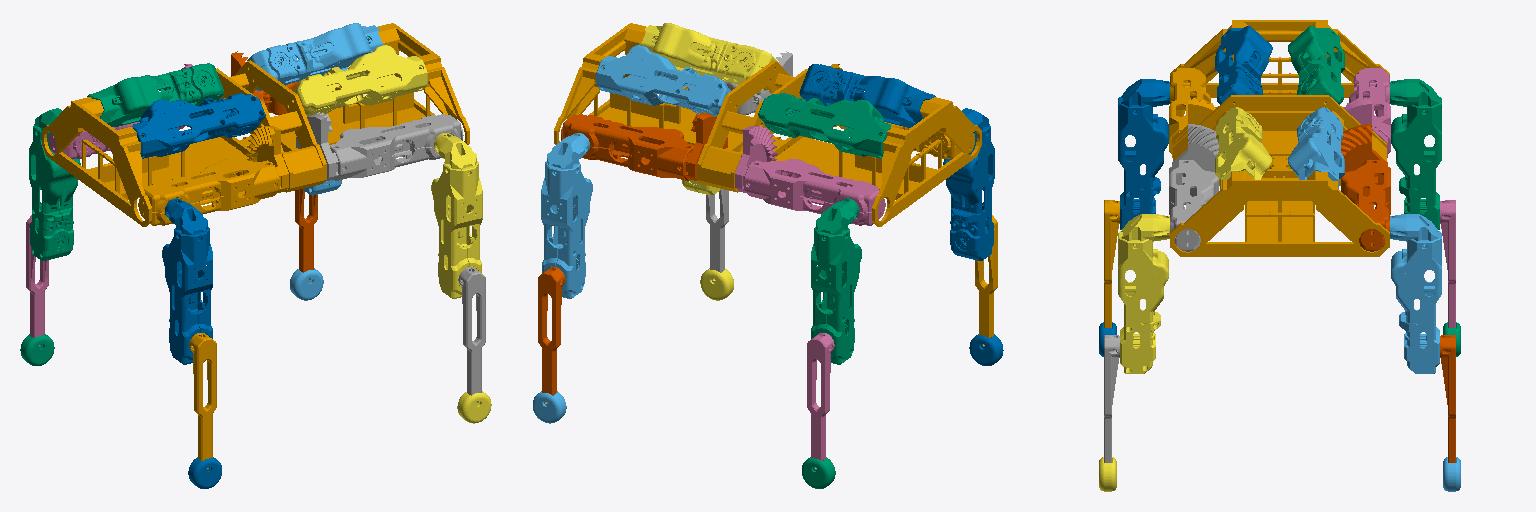
--- Facts derived from the render (not from the file) ---
3 views of the same robot in one strip: view 1: azimuth 30°, elevation 25°; view 2: azimuth 150°, elevation 25°; view 3: azimuth 270°, elevation 25° (orthographic).
Model Vierbot with 21 links and 20 joints (12 revolute, 8 fixed), rooted at base_link, posed all joints at 0.
Links seen in each view (by area): view 1: base_link, thigh_RR_111, shank_FR_91, shank_RR_121, thigh_FR_81, hip_FR_71, hip_RR_101, shank_RL_61, hip_RL_41, hip_FL_11, calf_RR_01, calf_FR_01 (+8 smaller); view 2: base_link, thigh_RL_51, shank_FL_31, shank_RL_61, thigh_FL_21, hip_FL_11, hip_RL_41, shank_RR_121, hip_FR_71, hip_RR_101, calf_RL_01, calf_FL_01 (+8 smaller); view 3: base_link, shank_FR_91, shank_FL_31, shank_RL_61, shank_RR_121, thigh_FL_21, thigh_FR_81, hip_RL_41, hip_RR_101, hip_FR_71, hip_FL_11, thigh_RL_51 (+7 smaller).
Boxes of the visible links, <box> form: base_link: <box>42,23,469,226</box>; thigh_RR_111: <box>138,126,288,225</box>; shank_FR_91: <box>431,133,482,298</box>; shank_RR_121: <box>162,198,212,364</box>; thigh_FR_81: <box>296,112,463,181</box>; hip_FR_71: <box>293,45,427,116</box>; hip_RR_101: <box>132,93,265,158</box>; shank_RL_61: <box>29,108,80,260</box>; hip_RL_41: <box>87,63,223,126</box>; hip_FL_11: <box>247,23,384,90</box>; calf_RR_01: <box>189,333,216,468</box>; calf_FR_01: <box>458,267,485,403</box>; base_link: <box>554,23,981,226</box>; thigh_RL_51: <box>735,126,885,225</box>; shank_FL_31: <box>541,133,592,298</box>; shank_RL_61: <box>811,198,861,364</box>; thigh_FL_21: <box>561,112,727,181</box>; hip_FL_11: <box>596,45,730,116</box>; hip_RL_41: <box>758,93,890,158</box>; shank_RR_121: <box>943,108,994,260</box>; hip_FR_71: <box>639,23,777,90</box>; hip_RR_101: <box>799,64,935,127</box>; calf_RL_01: <box>807,333,834,468</box>; calf_FL_01: <box>538,267,565,403</box>; base_link: <box>1170,20,1389,256</box>; shank_FR_91: <box>1118,214,1169,373</box>; shank_FL_31: <box>1390,214,1441,373</box>; shank_RL_61: <box>1390,79,1441,229</box>; shank_RR_121: <box>1118,79,1169,229</box>; thigh_FL_21: <box>1341,124,1390,251</box>; thigh_FR_81: <box>1169,124,1218,251</box>; hip_RL_41: <box>1288,26,1344,104</box>; hip_RR_101: <box>1215,26,1272,104</box>; hip_FR_71: <box>1215,107,1271,189</box>; hip_FL_11: <box>1288,107,1344,188</box>; thigh_RL_51: <box>1343,68,1390,157</box>.
Bounding box of the posed robot: 0.434 × 0.4121 × 0.4264 m (x, y, z).
Meshes: 21 distinct files referenced, 21 mesh visuals loaded (21 binary STL).

URDF robot description (Vierbot):
<?xml version="1.0" ?>
<robot name="Vierbot">

<material name="black">
        <color rgba="0.05 0.05 0.05 1.0"/>
</material>

<material name="silver">
  <color rgba="0.700 0.700 0.700 1.0"/>
</material>

<material name="col1">
        <color rgba="0.0 0.2 0.8 1.0"/>
</material>

<material name="col2">
        <color rgba="0.0 0.5 0.0 1.0"/>
</material>

<material name="col3">
        <color rgba="0.8 0.2 0.0 1.0"/>
</material>

<material name="col4">
        <color rgba="1.0 1.0 0.0 1.0"/>
</material>

<sensor name="my_camera_sensor" update_rate="20">
<parent link="optical_frame_link_name"/>
<origin xyz="0 0 0" rpy="0 0 0"/>
<camera>
<image width="640" height="480" hfov="1.5708" format="RGB8" near="0.01" far="50.0"/>
</camera>
</sensor>

<link name="base_link">
  <inertial>
    <origin xyz="-1.1622381977455148e-13 6.060780228924139e-14 0.03150477604264907" rpy="0 0 0"/>
    <mass value="1.5"/>
    <inertia ixx="0.003225346077416837" iyy="0.018385606218641354" izz="0.019912259165626372" ixy="8.540431736036536e-14" iyz="1.1403721671223423e-15" ixz="-2.1927250054644424e-15"/>
  </inertial>
  <visual>
    <origin xyz="0 0 0" rpy="0 0 0"/>
    <geometry>
      <mesh filename="meshes/base_link.stl" scale="0.001 0.001 0.001"/>
    </geometry>
    <material name="black"/>
    <material/>
  </visual>
  <collision>
    <origin xyz="0 0 0" rpy="0 0 0"/>
    <geometry>
      <mesh filename="meshes/base_link.stl" scale="0.001 0.001 0.001"/>
    </geometry>
  </collision>
</link>

<link name="hip_FL_11">
  <inertial>
    <origin xyz="-0.09440772079482261 -0.01226946793154024 0.012008984684742721" rpy="0 0 0"/>
    <mass value="0.09229327790970179"/>
    <inertia ixx="3.5536504792693614e-05" iyy="0.00024043995134874767" izz="0.00024034643419844023" ixy="5.166030567867598e-06" iyz="2.7372382227307105e-06" ixz="-6.1753181989822195e-06"/>
  </inertial>
  <visual>
    <origin xyz="-0.1874 -0.057622 -0.067378" rpy="0 0 0"/>
    <geometry>
      <mesh filename="meshes/hip_FL_11.stl" scale="0.001 0.001 0.001"/>
    </geometry>
    <material name="col1"/>
    <material/>
  </visual>
  <collision>
    <origin xyz="-0.1874 -0.057622 -0.067378" rpy="0 0 0"/>
    <geometry>
      <mesh filename="meshes/hip_FL_11.stl" scale="0.001 0.001 0.001"/>
    </geometry>
  </collision>
</link>

<link name="hip_RL_41">
  <inertial>
    <origin xyz="0.09440772079482249 -0.012008984684745504 0.0122694679315377" rpy="0 0 0"/>
    <mass value="0.09229327790970179"/>
    <inertia ixx="3.553650479269383e-05" iyy="0.00024034643419844" izz="0.00024043995134874745" ixy="-6.175318198982057e-06" iyz="2.737238222730602e-06" ixz="5.166030567867598e-06"/>
  </inertial>
  <visual>
    <origin xyz="0.1874 0.067622 -0.057378" rpy="1.57 0 0"/>
    <geometry>
      <mesh filename="meshes/hip_RL_41.stl" scale="0.001 0.001 0.001"/>
    </geometry>
    <material name="col1"/>
    <material/>
  </visual>
  <collision>
    <origin xyz="0.1874 0.067622 -0.057378" rpy="1.57 0 0"/>
    <geometry>
      <mesh filename="meshes/hip_RL_41.stl" scale="0.001 0.001 0.001"/>
    </geometry>
  </collision>
</link>

<link name="hip_FR_71">
  <inertial>
    <origin xyz="-0.09440772079482262 0.012008984684745122 0.012269467931537603" rpy="0 0 0"/>
    <mass value="0.09229327790970179"/>
    <inertia ixx="3.5536504792693614e-05" iyy="0.00024034643419844066" izz="0.00024043995134874745" ixy="-6.175318198982003e-06" iyz="-2.7372382227307647e-06" ixz="-5.166030567867381e-06"/>
  </inertial>
  <visual>
    <origin xyz="-0.1874 -0.067622 -0.057378" rpy="-1.57 0 0"/>
    <geometry>
      <mesh filename="meshes/hip_FR_71.stl" scale="0.001 0.001 0.001"/>
    </geometry>
    <material name="col1"/>
    <material/>
  </visual>
  <collision>
    <origin xyz="-0.1874 -0.067622 -0.057378" rpy="-1.57 0 0"/>
    <geometry>
      <mesh filename="meshes/hip_FR_71.stl" scale="0.001 0.001 0.001"/>
    </geometry>
  </collision>
</link>

<link name="hip_RR_101">
  <inertial>
    <origin xyz="0.09440772079482257 0.012269467931539865 0.012008984684742874" rpy="0 0 0"/>
    <mass value="0.09229327790970179"/>
    <inertia ixx="3.55365047926934e-05" iyy="0.00024043995134874724" izz="0.0002403464341984398" ixy="5.166030567867652e-06" iyz="-2.737238222730819e-06" ixz="6.1753181989822195e-06"/>
  </inertial>
  <visual>
    <origin xyz="0.1874 0.067622 0.057378" rpy="1.57 0 0"/>
    <geometry>
      <mesh filename="meshes/hip_RR_101.stl" scale="0.001 0.001 0.001"/>
    </geometry>
    <material name="col1"/>
    <material/>
  </visual>
  <collision>
    <origin xyz="0.1874 0.067622 0.057378" rpy="1.57 0 0"/>
    <geometry>
      <mesh filename="meshes/hip_RR_101.stl" scale="0.001 0.001 0.001"/>
    </geometry>
  </collision>
</link>

<link name="thigh_FL_21">
  <inertial>
    <origin xyz="-0.11134867223809858 -0.006622812232587191 0.005787907893035502" rpy="0 0 0"/>
    <mass value="0.15164823324289775"/>
    <inertia ixx="8.976676884853802e-05" iyy="0.0006609373724777076" izz="0.0006647347263703898" ixy="-6.137242536875223e-05" iyz="1.3420564825027722e-05" ixz="5.718577466675838e-05"/>
  </inertial>
  <visual>
    <origin xyz="-0.212 -0.105 -0.02" rpy="0 0 0"/>
    <geometry>
      <mesh filename="meshes/thigh_FL_21.stl" scale="0.001 0.001 0.001"/>
    </geometry>
    <material name="col2"/>
    <material/>
  </visual>
  <collision>
    <origin xyz="-0.212 -0.105 -0.02" rpy="0 0 0"/>
    <geometry>
      <mesh filename="meshes/thigh_FL_21.stl" scale="0.001 0.001 0.001"/>
    </geometry>
  </collision>
</link>

<link name="thigh_RL_51">
  <inertial>
    <origin xyz="0.11134871719665655 -0.006622833039364548 0.00578791297031736" rpy="0 0 0"/>
    <mass value="0.15164842396810566"/>
    <inertia ixx="8.976683878910699e-05" iyy="0.000660937631680238" izz="0.0006647350357718157" ixy="6.137253858525525e-05" iyz="1.3420578046066515e-05" ixz="-5.718580198711454e-05"/>
  </inertial>
  <visual>
    <origin xyz="0.212 -0.105 -0.02" rpy="0 0 0"/>
    <geometry>
      <mesh filename="meshes/thigh_RL_51.stl" scale="0.001 0.001 0.001"/>
    </geometry>
    <material name="col2"/>
    <material/>
  </visual>
  <collision>
    <origin xyz="0.212 -0.105 -0.02" rpy="0 0 0"/>
    <geometry>
      <mesh filename="meshes/thigh_RL_51.stl" scale="0.001 0.001 0.001"/>
    </geometry>
  </collision>
</link>

<link name="thigh_FR_81">
  <inertial>
    <origin xyz="-0.11134871719665673 0.006622833039364159 0.0057879129703172424" rpy="0 0 0"/>
    <mass value="0.15164842396810566"/>
    <inertia ixx="8.976683878910677e-05" iyy="0.0006609376316802384" izz="0.0006647350357718166" ixy="6.137253858525546e-05" iyz="-1.342057804606646e-05" ixz="5.718580198711454e-05"/>
  </inertial>
  <visual>
    <origin xyz="-0.212 0.105 -0.02" rpy="0 0 0"/>
    <geometry>
      <mesh filename="meshes/thigh_FR_81.stl" scale="0.001 0.001 0.001"/>
    </geometry>
    <material name="col2"/>
    <material/>
  </visual>
  <collision>
    <origin xyz="-0.212 0.105 -0.02" rpy="0 0 0"/>
    <geometry>
      <mesh filename="meshes/thigh_FR_81.stl" scale="0.001 0.001 0.001"/>
    </geometry>
  </collision>
</link>

<link name="thigh_RR_111">
  <inertial>
    <origin xyz="0.11134867223809854 0.006622812232586803 0.005787907893035661" rpy="0 0 0"/>
    <mass value="0.15164823324289775"/>
    <inertia ixx="8.976676884853802e-05" iyy="0.0006609373724777081" izz="0.0006647347263703898" ixy="-6.137242536875223e-05" iyz="-1.3420564825027776e-05" ixz="-5.718577466675833e-05"/>
  </inertial>
  <visual>
    <origin xyz="0.212 0.105 -0.02" rpy="0 0 0"/>
    <geometry>
      <mesh filename="meshes/thigh_RR_111.stl" scale="0.001 0.001 0.001"/>
    </geometry>
    <material name="col2"/>
    <material/>
  </visual>
  <collision>
    <origin xyz="0.212 0.105 -0.02" rpy="0 0 0"/>
    <geometry>
      <mesh filename="meshes/thigh_RR_111.stl" scale="0.001 0.001 0.001"/>
    </geometry>
  </collision>
</link>

<link name="shank_FL_31">
  <inertial>
    <origin xyz="0.00012338927615068718 0.03435448337164208 -0.07427332259918416" rpy="0 0 0"/>
    <mass value="0.1375345537707605"/>
    <inertia ixx="0.0005796742922113672" iyy="0.0005665159913046964" izz="4.9598761995544444e-05" ixy="-1.044592789923443e-07" iyz="3.927975454467254e-05" ixz="1.306607903904045e-06"/>
  </inertial>
  <visual>
    <origin xyz="-0.1815 -0.1236 -0.02" rpy="0 0 0"/>
    <geometry>
      <mesh filename="meshes/shank_FL_31.stl" scale="0.001 0.001 0.001"/>
    </geometry>
    <material name="col3"/>
    <material/>
  </visual>
  <collision>
    <origin xyz="-0.1815 -0.1236 -0.02" rpy="0 0 0"/>
    <geometry>
      <mesh filename="meshes/shank_FL_31.stl" scale="0.001 0.001 0.001"/>
    </geometry>
  </collision>
</link>

<link name="shank_RL_61">
  <inertial>
    <origin xyz="0.0001233892761507427 0.03435448337164208 -0.07427332259918477" rpy="0 0 0"/>
    <mass value="0.1375345537707605"/>
    <inertia ixx="0.0005796742922113667" iyy="0.0005665159913046973" izz="4.9598761995544444e-05" ixy="-1.0445927899147694e-07" iyz="3.927975454467254e-05" ixz="1.3066079039046954e-06"/>
  </inertial>
  <visual>
    <origin xyz="0.1815 -0.1236 -0.02" rpy="0 0 0"/>
    <geometry>
      <mesh filename="meshes/shank_RL_61.stl" scale="0.001 0.001 0.001"/>
    </geometry>
    <material name="col3"/>
    <material/>
  </visual>
  <collision>
    <origin xyz="0.1815 -0.1236 -0.02" rpy="0 0 0"/>
    <geometry>
      <mesh filename="meshes/shank_RL_61.stl" scale="0.001 0.001 0.001"/>
    </geometry>
  </collision>
</link>

<link name="shank_FR_91">
  <inertial>
    <origin xyz="-0.00012338927615090922 -0.0343544833716425 -0.07427332259918488" rpy="0 0 0"/>
    <mass value="0.1375345537707605"/>
    <inertia ixx="0.000579674292211365" iyy="0.0005665159913046964" izz="4.959876199554271e-05" ixy="-1.0445927899321167e-07" iyz="-3.927975454467254e-05" ixz="-1.3066079039042618e-06"/>
  </inertial>
  <visual>
    <origin xyz="-0.1815 0.1236 -0.02" rpy="0 0 0"/>
    <geometry>
      <mesh filename="meshes/shank_FR_91.stl" scale="0.001 0.001 0.001"/>
    </geometry>
    <material name="col3"/>
    <material/>
  </visual>
  <collision>
    <origin xyz="-0.1815 0.1236 -0.02" rpy="0 0 0"/>
    <geometry>
      <mesh filename="meshes/shank_FR_91.stl" scale="0.001 0.001 0.001"/>
    </geometry>
  </collision>
</link>

<link name="shank_RR_121">
  <inertial>
    <origin xyz="-0.0001233892761507427 -0.0343544833716425 -0.07427332259918401" rpy="0 0 0"/>
    <mass value="0.1375345537707605"/>
    <inertia ixx="0.0005796742922113654" iyy="0.0005665159913046973" izz="4.959876199554271e-05" ixy="-1.0445927899321167e-07" iyz="-3.927975454467254e-05" ixz="-1.3066079039044786e-06"/>
  </inertial>
  <visual>
    <origin xyz="0.1815 0.1236 -0.02" rpy="0 0 0"/>
    <geometry>
      <mesh filename="meshes/shank_RR_121.stl" scale="0.001 0.001 0.001"/>
    </geometry>
    <material name="col3"/>
    <material/>
  </visual>
  <collision>
    <origin xyz="0.1815 0.1236 -0.02" rpy="0 0 0"/>
    <geometry>
      <mesh filename="meshes/shank_RR_121.stl" scale="0.001 0.001 0.001"/>
    </geometry>
  </collision>
</link>

<link name="calf_FL_01">
  <inertial>
    <origin xyz="-7.91832108215651e-09 0.013282130538067649 -0.056001504390438495" rpy="0 0 0"/>
    <mass value="0.03869201579290863"/>
    <inertia ixx="0.00010365365243750549" iyy="0.00010478682577083186" izz="2.7566202108930855e-06" ixy="-3.317051494589052e-14" iyz="3.3239621122108185e-06" ixz="6.407998697638417e-12"/>
  </inertial>
  <visual>
    <origin xyz="-0.1815 -0.181075 0.13" rpy="0 0 0"/>
    <geometry>
      <mesh filename="meshes/calf_FL_01.stl" scale="0.001 0.001 0.001"/>
    </geometry>
    <material name="col4"/>
    <material/>
  </visual>
  <collision>
    <origin xyz="-0.1815 -0.181075 0.13" rpy="0 0 0"/>
    <geometry>
      <mesh filename="meshes/calf_FL_01.stl" scale="0.001 0.001 0.001"/>
    </geometry>
  </collision>
</link>

<link name="calf_RL_01">
  <inertial>
    <origin xyz="-7.918320860111905e-09 0.013282130538067649 -0.056001504390439105" rpy="0 0 0"/>
    <mass value="0.03869201579290863"/>
    <inertia ixx="0.00010365365243750549" iyy="0.00010478682577083143" izz="2.756620210892218e-06" ixy="-3.317051494589052e-14" iyz="3.3239621122108185e-06" ixz="6.407998697638417e-12"/>
  </inertial>
  <visual>
    <origin xyz="0.1815 -0.181075 0.13" rpy="0 0 0"/>
    <geometry>
      <mesh filename="meshes/calf_RL_01.stl" scale="0.001 0.001 0.001"/>
    </geometry>
    <material name="col4"/>
    <material/>
  </visual>
  <collision>
    <origin xyz="0.1815 -0.181075 0.13" rpy="0 0 0"/>
    <geometry>
      <mesh filename="meshes/calf_RL_01.stl" scale="0.001 0.001 0.001"/>
    </geometry>
  </collision>
</link>

<link name="calf_FR_01">
  <inertial>
    <origin xyz="7.918320665822876e-09 -0.013282130538067982 -0.056001504390439216" rpy="0 0 0"/>
    <mass value="0.03869201579290863"/>
    <inertia ixx="0.00010365365243750636" iyy="0.00010478682577083186" izz="2.7566202108930855e-06" ixy="-3.317029810545602e-14" iyz="-3.3239621122110354e-06" ixz="-6.407998697638417e-12"/>
  </inertial>
  <visual>
    <origin xyz="-0.1815 0.181075 0.13" rpy="0 0 0"/>
    <geometry>
      <mesh filename="meshes/calf_FR_01.stl" scale="0.001 0.001 0.001"/>
    </geometry>
    <material name="col4"/>
    <material/>
  </visual>
  <collision>
    <origin xyz="-0.1815 0.181075 0.13" rpy="0 0 0"/>
    <geometry>
      <mesh filename="meshes/calf_FR_01.stl" scale="0.001 0.001 0.001"/>
    </geometry>
  </collision>
</link>

<link name="calf_RR_01">
  <inertial>
    <origin xyz="7.918320721334027e-09 -0.013282130538067982 -0.056001504390438356" rpy="0 0 0"/>
    <mass value="0.03869201579290863"/>
    <inertia ixx="0.00010365365243750592" iyy="0.00010478682577083186" izz="2.756620210892218e-06" ixy="-3.317029810545602e-14" iyz="-3.3239621122108185e-06" ixz="-6.407998914478852e-12"/>
  </inertial>
  <visual>
    <origin xyz="0.1815 0.181075 0.13" rpy="0 0 0"/>
    <geometry>
      <mesh filename="meshes/calf_RR_01.stl" scale="0.001 0.001 0.001"/>
    </geometry>
    <material name="col4"/>
    <material/>
  </visual>
  <collision>
    <origin xyz="0.1815 0.181075 0.13" rpy="0 0 0"/>
    <geometry>
      <mesh filename="meshes/calf_RR_01.stl" scale="0.001 0.001 0.001"/>
    </geometry>
  </collision>
</link>

<link name="foot_FL_01">
  <inertial>
    <origin xyz="4.922728891187944e-12 0.0049999999954364605 -0.008885326252648207" rpy="0 0 0"/>
    <mass value="1"/>
    <inertia ixx="2.1221730733596983e-06" iyy="3.420267524862578e-06" izz="2.4764762187083015e-06" ixy="-3.1604493327952454e-16" iyz="1.7145573155685767e-15" ixz="-1.661648249551284e-15"/>
  </inertial>
  <visual>
    <origin xyz="-0.1815 -0.191075 0.2827" rpy="0 0 0"/>
    <geometry>
      <mesh filename="meshes/foot_FL_01.stl" scale="0.001 0.001 0.001"/>
    </geometry>
    <material name="col4"/>
    <material/>
  </visual>
  <collision>
    <origin xyz="-0.1815 -0.191075 0.2827" rpy="0 0 0"/>
    <geometry>
      <mesh filename="meshes/foot_FL_01.stl" scale="0.001 0.001 0.001"/>
    </geometry>
  </collision>
</link>

<link name="foot_RL_01">
  <inertial>
    <origin xyz="4.922978691368485e-12 0.0049999999954364605 -0.008885326252648873" rpy="0 0 0"/>
    <mass value="1"/>
    <inertia ixx="2.1221730733596983e-06" iyy="3.420267524863012e-06" izz="2.476476218707868e-06" ixy="-3.15936513062276e-16" iyz="1.7143404751340796e-15" ixz="-1.6618650899857812e-15"/>
  </inertial>
  <visual>
    <origin xyz="0.1815 -0.191075 0.2827" rpy="0 0 0"/>
    <geometry>
      <mesh filename="meshes/foot_RL_01.stl" scale="0.001 0.001 0.001"/>
    </geometry>
    <material name="col4"/>
    <material/>
  </visual>
  <collision>
    <origin xyz="0.1815 -0.191075 0.2827" rpy="0 0 0"/>
    <geometry>
      <mesh filename="meshes/foot_RL_01.stl" scale="0.001 0.001 0.001"/>
    </geometry>
  </collision>
</link>

<link name="foot_FR_01">
  <inertial>
    <origin xyz="-4.9231452248221785e-12 -0.004999999995436821 -0.00888532625264904" rpy="0 0 0"/>
    <mass value="1"/>
    <inertia ixx="2.1221730733592646e-06" iyy="3.4202675248621445e-06" izz="2.4764762187080847e-06" ixy="-3.1604493327952454e-16" iyz="-1.7139067942650854e-15" ixz="1.661648249551284e-15"/>
  </inertial>
  <visual>
    <origin xyz="-0.1815 0.191075 0.2827" rpy="0 0 0"/>
    <geometry>
      <mesh filename="meshes/foot_FR_01.stl" scale="0.001 0.001 0.001"/>
    </geometry>
    <material name="col4"/>
    <material/>
  </visual>
  <collision>
    <origin xyz="-0.1815 0.191075 0.2827" rpy="0 0 0"/>
    <geometry>
      <mesh filename="meshes/foot_FR_01.stl" scale="0.001 0.001 0.001"/>
    </geometry>
  </collision>
</link>

<link name="foot_RR_01">
  <inertial>
    <origin xyz="-4.923117469246563e-12 -0.004999999995436821 -0.008885326252648096" rpy="0 0 0"/>
    <mass value="1"/>
    <inertia ixx="2.1221730733592646e-06" iyy="3.420267524862578e-06" izz="2.4764762187080847e-06" ixy="-3.1582809284502744e-16" iyz="-1.7143404751340796e-15" ixz="1.661648249551284e-15"/>
  </inertial>
  <visual>
    <origin xyz="0.1815 0.191075 0.2827" rpy="0 0 0"/>
    <geometry>
      <mesh filename="meshes/foot_RR_01.stl" scale="0.001 0.001 0.001"/>
    </geometry>
    <material name="col4"/>
    <material/>
  </visual>
  <collision>
    <origin xyz="0.1815 0.191075 0.2827" rpy="0 0 0"/>
    <geometry>
      <mesh filename="meshes/foot_RR_01.stl" scale="0.001 0.001 0.001"/>
    </geometry>
  </collision>
</link>

<joint name="rigidhip_FL_1_joint" type="fixed">
  <origin xyz="0.1874 0.057622 0.067378" rpy="0 0 0"/>
  <parent link="base_link"/>
  <child link="hip_FL_11"/>
</joint>

<joint name="rigidhip_RL_4_joint" type="fixed">
  <origin xyz="-0.1874 0.057622 0.067378" rpy="0 0 0"/>
  <parent link="base_link"/>
  <child link="hip_RL_41"/>
</joint>

<joint name="rigidhip_FR_7_joint" type="fixed">
  <origin xyz="0.1874 -0.057622 0.067378" rpy="0 0 0"/>
  <parent link="base_link"/>
  <child link="hip_FR_71"/>
</joint>

<joint name="rigidhip_RR_10_joint" type="fixed">
  <origin xyz="-0.1874 -0.057622 0.067378" rpy="0 0 0"/>
  <parent link="base_link"/>
  <child link="hip_RR_101"/>
</joint>

<joint name="hip_FL_1_joint" type="revolute">
  <origin xyz="0.212 0.105 0.02" rpy="0 0 0"/>
  <parent link="base_link"/>
  <child link="thigh_FL_21"/>
  <axis xyz="1.0 0.0 -0.0"/>
  <limit effort="100" lower="-3" upper="3" velocity="1000.00" />
</joint>
<transmission name="hip_FL_1_joint_tran">
  <type>transmission_interface/SimpleTransmission</type>
  <joint name="hip_FL_1_joint">
    <hardwareInterface>PositionJointInterface</hardwareInterface>
  </joint>
  <actuator name="hip_FL_1_joint_actr">
    <hardwareInterface>PositionJointInterface</hardwareInterface>
    <mechanicalReduction>1</mechanicalReduction>
  </actuator>
</transmission>

<joint name="hip_RL_4_joint" type="revolute">
  <origin xyz="-0.212 0.105 0.02" rpy="0 0 0"/>
  <parent link="base_link"/>
  <child link="thigh_RL_51"/>
  <axis xyz="1.0 0.0 -0.0"/>
  <limit effort="100" lower="-3" upper="3" velocity="1000.00" />
</joint>
<transmission name="hip_RL_4_joint_tran">
  <type>transmission_interface/SimpleTransmission</type>
  <joint name="hip_RL_4_joint">
    <hardwareInterface>PositionJointInterface</hardwareInterface>
  </joint>
  <actuator name="hip_RL_4_joint_actr">
    <hardwareInterface>PositionJointInterface</hardwareInterface>
    <mechanicalReduction>1</mechanicalReduction>
  </actuator>
</transmission>

<joint name="hip_FR_7_joint" type="revolute">
  <origin xyz="0.212 -0.105 0.02" rpy="0 0 0"/>
  <parent link="base_link"/>
  <child link="thigh_FR_81"/>
  <axis xyz="1.0 0.0 -0.0"/>
  <limit effort="100" lower="-3" upper="3" velocity="1000.00" />
</joint>
<transmission name="hip_FR_7_joint_tran">
  <type>transmission_interface/SimpleTransmission</type>
  <joint name="hip_FR_7_joint">
    <hardwareInterface>PositionJointInterface</hardwareInterface>
  </joint>
  <actuator name="hip_FR_7_joint_actr">
    <hardwareInterface>PositionJointInterface</hardwareInterface>
    <mechanicalReduction>1</mechanicalReduction>
  </actuator>
</transmission>

<joint name="hip_RR_10_joint" type="revolute">
  <origin xyz="-0.212 -0.105 0.02" rpy="0 0 0"/>
  <parent link="base_link"/>
  <child link="thigh_RR_111"/>
  <axis xyz="1.0 0.0 -0.0"/>
  <limit effort="100" lower="-3" upper="3" velocity="1000.00" />
</joint>
<transmission name="hip_RR_10_joint_tran">
  <type>transmission_interface/SimpleTransmission</type>
  <joint name="hip_RR_10_joint">
    <hardwareInterface>PositionJointInterface</hardwareInterface>
  </joint>
  <actuator name="hip_RR_10_joint_actr">
    <hardwareInterface>PositionJointInterface</hardwareInterface>
    <mechanicalReduction>1</mechanicalReduction>
  </actuator>
</transmission>

<joint name="thigh_FL_2_joint" type="revolute">
  <origin xyz="-0.0305 0.0186 0.0" rpy="0 0 0"/>
  <parent link="thigh_FL_21"/>
  <child link="shank_FL_31"/>
  <axis xyz="0.0 1.0 0.0"/>
  <limit effort="100" lower="-3" upper="3" velocity="1000.00" />
</joint>
<transmission name="thigh_FL_2_joint_tran">
  <type>transmission_interface/SimpleTransmission</type>
  <joint name="thigh_FL_2_joint">
    <hardwareInterface>PositionJointInterface</hardwareInterface>
  </joint>
  <actuator name="thigh_FL_2_joint_actr">
    <hardwareInterface>PositionJointInterface</hardwareInterface>
    <mechanicalReduction>1</mechanicalReduction>
  </actuator>
</transmission>

<joint name="thigh_RL_5_joint" type="revolute">
  <origin xyz="0.0305 0.0186 0.0" rpy="0 0 0"/>
  <parent link="thigh_RL_51"/>
  <child link="shank_RL_61"/>
  <axis xyz="0.0 1.0 0.0"/>
  <limit effort="100" lower="-3" upper="3" velocity="1000.00" />
</joint>
<transmission name="thigh_RL_5_joint_tran">
  <type>transmission_interface/SimpleTransmission</type>
  <joint name="thigh_RL_5_joint">
    <hardwareInterface>PositionJointInterface</hardwareInterface>
  </joint>
  <actuator name="thigh_RL_5_joint_actr">
    <hardwareInterface>PositionJointInterface</hardwareInterface>
    <mechanicalReduction>1</mechanicalReduction>
  </actuator>
</transmission>

<joint name="thigh_FR_8_joint" type="revolute">
  <origin xyz="-0.0305 -0.0186 0.0" rpy="0 0 0"/>
  <parent link="thigh_FR_81"/>
  <child link="shank_FR_91"/>
  <axis xyz="-0.0 1.0 0.0"/>
  <limit effort="100" lower="-3" upper="3" velocity="1000.00" />
</joint>
<transmission name="thigh_FR_8_joint_tran">
  <type>transmission_interface/SimpleTransmission</type>
  <joint name="thigh_FR_8_joint">
    <hardwareInterface>PositionJointInterface</hardwareInterface>
  </joint>
  <actuator name="thigh_FR_8_joint_actr">
    <hardwareInterface>PositionJointInterface</hardwareInterface>
    <mechanicalReduction>1</mechanicalReduction>
  </actuator>
</transmission>

<joint name="thigh_RR_11_joint" type="revolute">
  <origin xyz="0.0305 -0.0186 0.0" rpy="0 0 0"/>
  <parent link="thigh_RR_111"/>
  <child link="shank_RR_121"/>
  <axis xyz="0.0 1.0 0.0"/>
  <limit effort="100" lower="-3" upper="3" velocity="1000.00" />
</joint>
<transmission name="thigh_RR_11_joint_tran">
  <type>transmission_interface/SimpleTransmission</type>
  <joint name="thigh_RR_11_joint">
    <hardwareInterface>PositionJointInterface</hardwareInterface>
  </joint>
  <actuator name="thigh_RR_11_joint_actr">
    <hardwareInterface>PositionJointInterface</hardwareInterface>
    <mechanicalReduction>1</mechanicalReduction>
  </actuator>
</transmission>

<joint name="shank_FL_3_joint" type="revolute">
  <origin xyz="0.0 0.057475 -0.15" rpy="0 0 0"/>
  <parent link="shank_FL_31"/>
  <child link="calf_FL_01"/>
  <axis xyz="0.0 1.0 0.0"/>
  <limit effort="100" lower="-3" upper="3" velocity="1000.00" />
</joint>
<transmission name="shank_FL_3_joint_tran">
  <type>transmission_interface/SimpleTransmission</type>
  <joint name="shank_FL_3_joint">
    <hardwareInterface>PositionJointInterface</hardwareInterface>
  </joint>
  <actuator name="shank_FL_3_joint_actr">
    <hardwareInterface>PositionJointInterface</hardwareInterface>
    <mechanicalReduction>1</mechanicalReduction>
  </actuator>
</transmission>

<joint name="shank_RL_6_joint" type="revolute">
  <origin xyz="0.0 0.057475 -0.15" rpy="0 0 0"/>
  <parent link="shank_RL_61"/>
  <child link="calf_RL_01"/>
  <axis xyz="0.0 1.0 0.0"/>
  <limit effort="100" lower="-3" upper="3" velocity="1000.00" />
</joint>
<transmission name="shank_RL_6_joint_tran">
  <type>transmission_interface/SimpleTransmission</type>
  <joint name="shank_RL_6_joint">
    <hardwareInterface>PositionJointInterface</hardwareInterface>
  </joint>
  <actuator name="shank_RL_6_joint_actr">
    <hardwareInterface>PositionJointInterface</hardwareInterface>
    <mechanicalReduction>1</mechanicalReduction>
  </actuator>
</transmission>

<joint name="shank_FR_9_joint" type="revolute">
  <origin xyz="0.0 -0.057475 -0.15" rpy="0 0 0"/>
  <parent link="shank_FR_91"/>
  <child link="calf_FR_01"/>
  <axis xyz="-0.0 1.0 0.0"/>
  <limit effort="100" lower="-3" upper="3" velocity="1000.00" />
</joint>
<transmission name="shank_FR_9_joint_tran">
  <type>transmission_interface/SimpleTransmission</type>
  <joint name="shank_FR_9_joint">
    <hardwareInterface>PositionJointInterface</hardwareInterface>
  </joint>
  <actuator name="shank_FR_9_joint_actr">
    <hardwareInterface>PositionJointInterface</hardwareInterface>
    <mechanicalReduction>1</mechanicalReduction>
  </actuator>
</transmission>

<joint name="shank_RR_12_joint" type="revolute">
  <origin xyz="0.0 -0.057475 -0.15" rpy="0 0 0"/>
  <parent link="shank_RR_121"/>
  <child link="calf_RR_01"/>
  <axis xyz="-0.0 1.0 0.0"/>
  <limit effort="100" lower="-3" upper="3" velocity="1000.00" />
</joint>
<transmission name="shank_RR_12_joint_tran">
  <type>transmission_interface/SimpleTransmission</type>
  <joint name="shank_RR_12_joint">
    <hardwareInterface>PositionJointInterface</hardwareInterface>
  </joint>
  <actuator name="shank_RR_12_joint_actr">
    <hardwareInterface>PositionJointInterface</hardwareInterface>
    <mechanicalReduction>1</mechanicalReduction>
  </actuator>
</transmission>

<joint name="foot_FL_0_joint" type="fixed">
  <origin xyz="0.0 0.01 -0.1527" rpy="0 0 0"/>
  <parent link="calf_FL_01"/>
  <child link="foot_FL_01"/>
</joint>

<joint name="foot_RL_0_joint" type="fixed">
  <origin xyz="0.0 0.01 -0.1527" rpy="0 0 0"/>
  <parent link="calf_RL_01"/>
  <child link="foot_RL_01"/>
</joint>

<joint name="foot_FR_0_joint" type="fixed">
  <origin xyz="0.0 -0.01 -0.1527" rpy="0 0 0"/>
  <parent link="calf_FR_01"/>
  <child link="foot_FR_01"/>
</joint>

<joint name="foot_RR_0_joint" type="fixed">
  <origin xyz="0.0 -0.01 -0.1527" rpy="0 0 0"/>
  <parent link="calf_RR_01"/>
  <child link="foot_RR_01"/>
</joint>

</robot>
